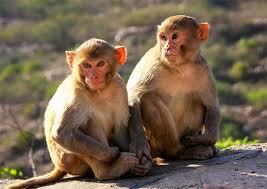monkey: (97, 11, 243, 166), (32, 20, 146, 180)
